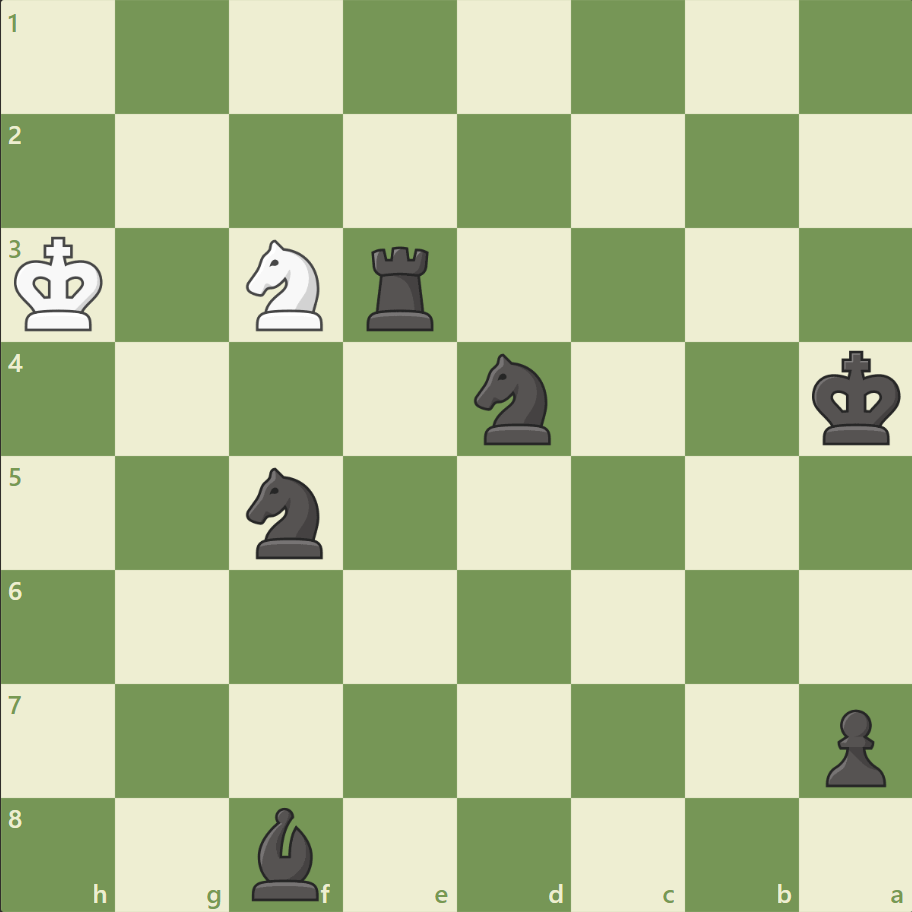K: (11, 231, 111, 339)
N: (238, 234, 335, 337)
b: (244, 801, 328, 904)
k: (806, 344, 906, 452)
n: (238, 461, 335, 564), (465, 348, 562, 450)
p: (815, 700, 889, 791)
r: (360, 239, 442, 336)
